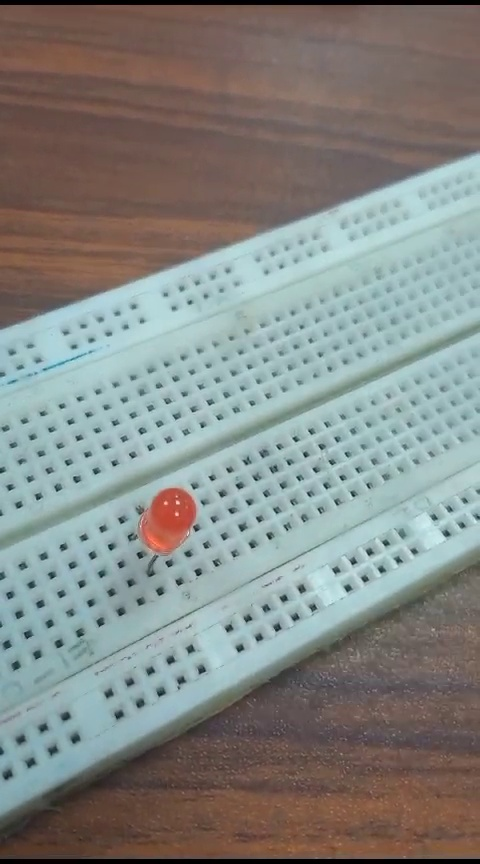LED: (135, 487, 210, 568)
